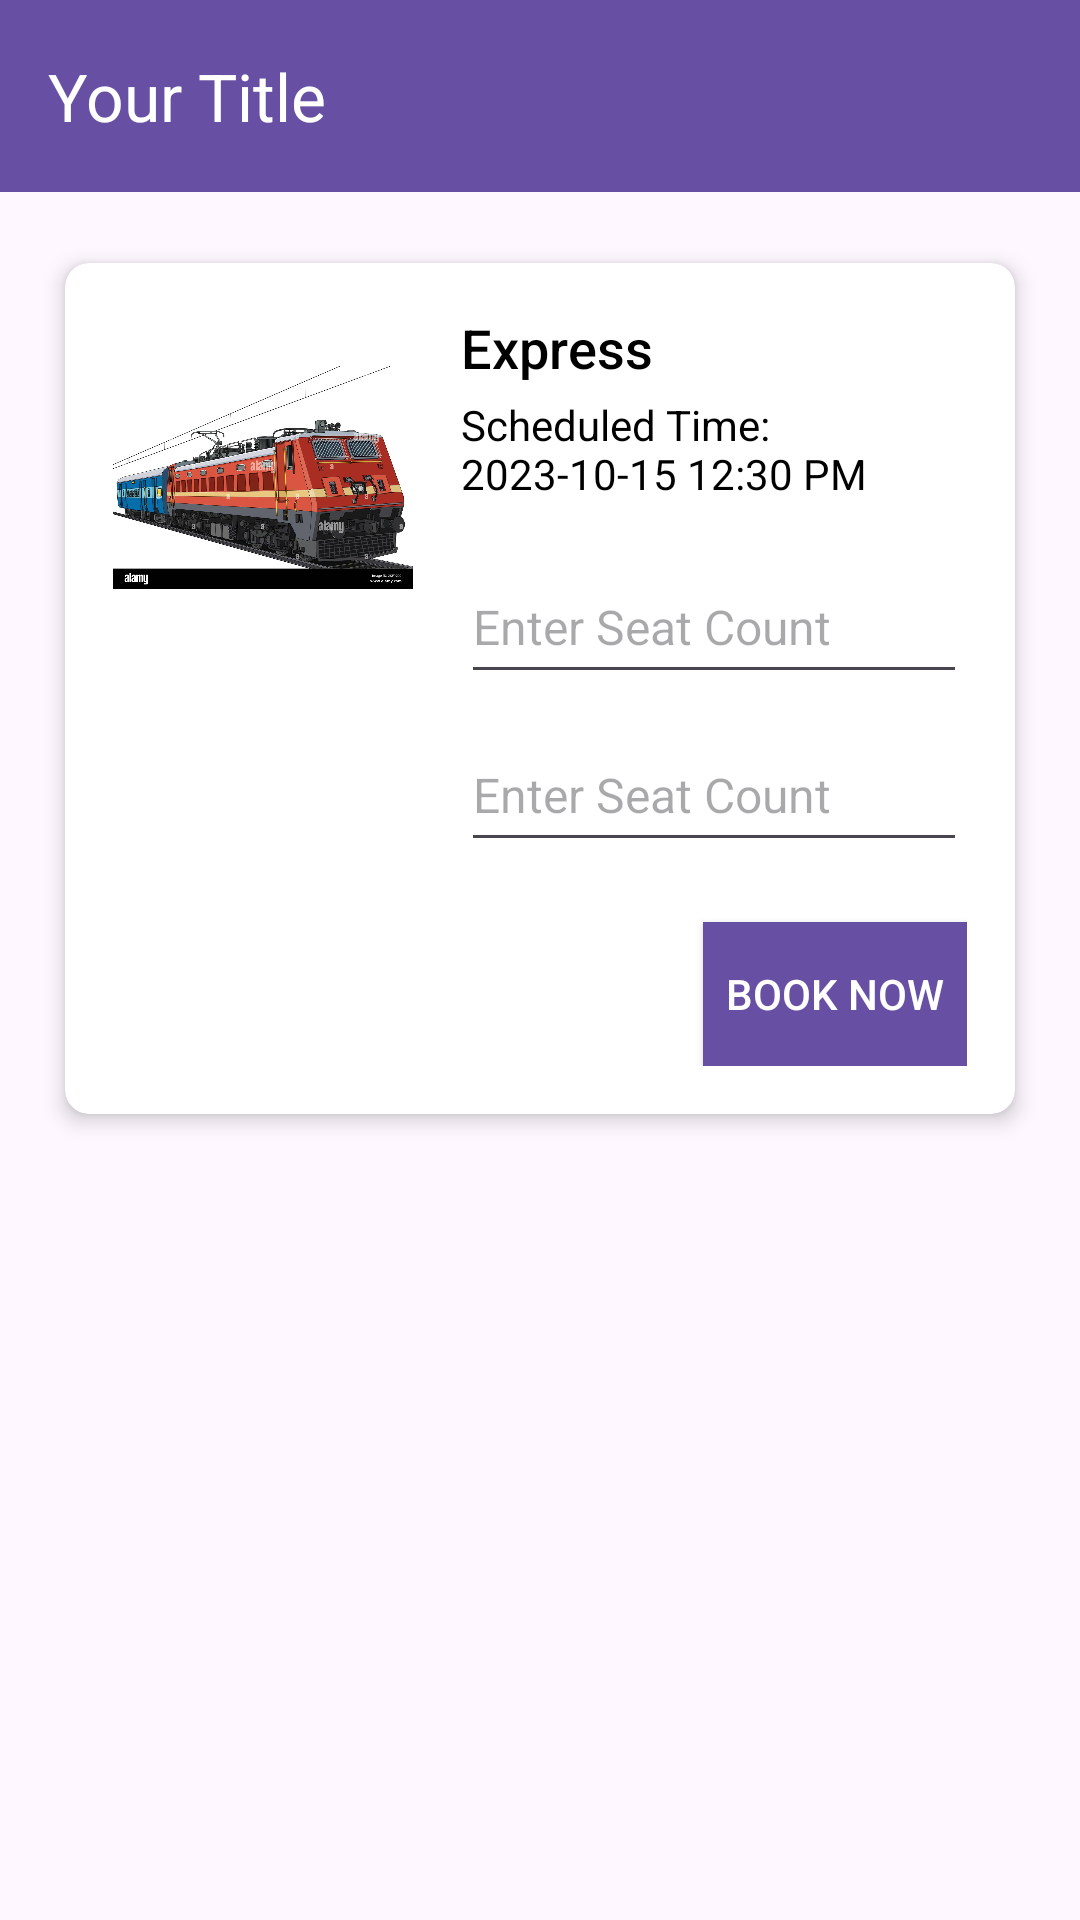

Locate icon controls on the screen. Image size 1080 x 1920, boxes as (x1, y1, x2, y2).
Train Image: (113, 366, 413, 589)
